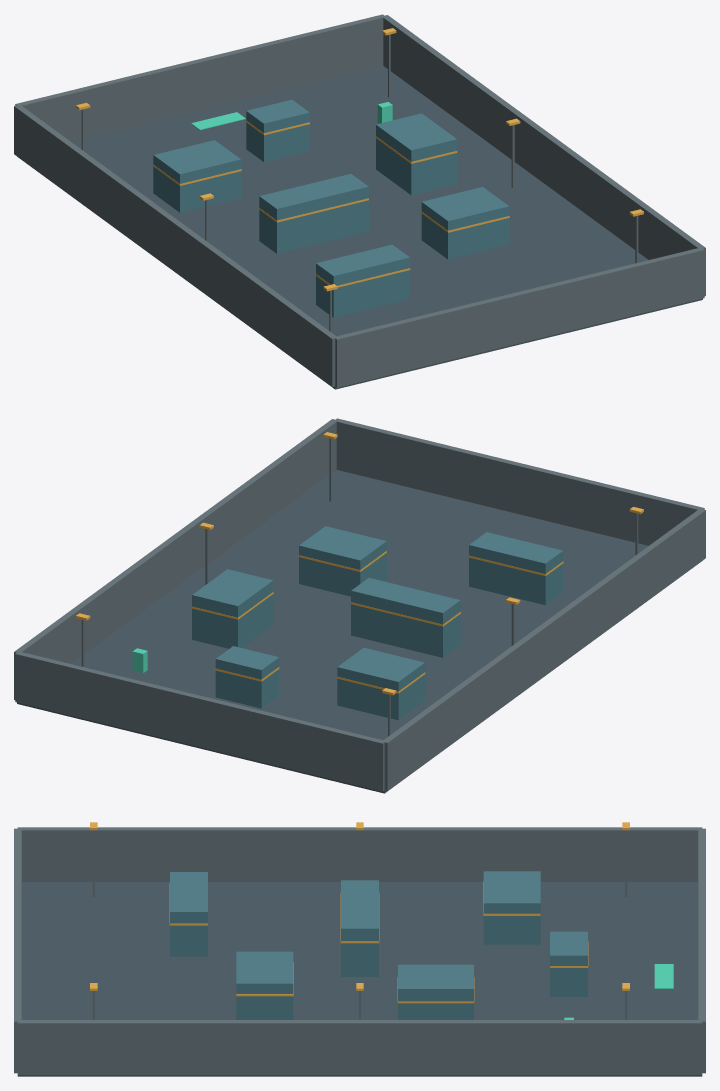
File: yard.glb
3 renders of one model, top to bottom at view 1: azimuth 30°, elevation 25°; view 2: azimuth 150°, elevation 25°; view 3: azimuth 270°, elevation 25°, orthographic. The views are drawn at different scales.
Parts seen in each view (by area): view 1: Ground, Perimeter.003, Perimeter.002, Perimeter, Perimeter.001, Cargo 2, Cargo 3, Cargo 0, Cargo 1, Cargo 4, Cargo 5; view 2: Ground, Perimeter.002, Perimeter.003, Perimeter, Perimeter.001, Cargo 2, Cargo 0, Cargo 3, Cargo 4, Cargo 1, Cargo 5; view 3: Ground, Perimeter.001, Perimeter, Cargo 3, Cargo 4, Cargo 1, Cargo 2, Cargo 0, Cargo 5, Perimeter.002, Perimeter.003, Extraction marker.
Boxes of the visible parts, x1,y1,x2,y2 form: Ground: (17, 66, 702, 389); Perimeter.003: (335, 247, 704, 387); Perimeter.002: (15, 14, 385, 141); Perimeter: (14, 104, 336, 386); Perimeter.001: (382, 15, 705, 295); Cargo 2: (259, 174, 368, 253); Cargo 3: (376, 113, 457, 195); Cargo 0: (316, 244, 409, 317); Cargo 1: (421, 187, 509, 259); Cargo 4: (153, 140, 241, 212); Cargo 5: (246, 99, 309, 161); Ground: (17, 470, 702, 793); Perimeter.002: (15, 651, 384, 791); Perimeter.003: (335, 418, 704, 545); Perimeter: (382, 509, 705, 790); Perimeter.001: (14, 419, 337, 699); Cargo 2: (351, 578, 460, 657); Cargo 0: (469, 532, 563, 605); Cargo 3: (192, 569, 273, 648); Cargo 4: (337, 647, 424, 720); Cargo 1: (299, 526, 386, 596); Cargo 5: (215, 646, 279, 708); Ground: (17, 882, 702, 1076); Perimeter.001: (17, 1020, 702, 1074); Perimeter: (17, 827, 702, 881); Cargo 3: (398, 964, 473, 1019); Cargo 4: (483, 871, 540, 944); Cargo 1: (236, 951, 293, 1019); Cargo 2: (341, 880, 378, 976); Cargo 0: (170, 872, 207, 956); Cargo 5: (550, 931, 587, 996); Perimeter.002: (698, 828, 705, 1073); Perimeter.003: (14, 828, 21, 1073); Extraction marker: (654, 964, 673, 988).
Bounding box in the file's own units: 24.4 × 4.35 × 36.4.
